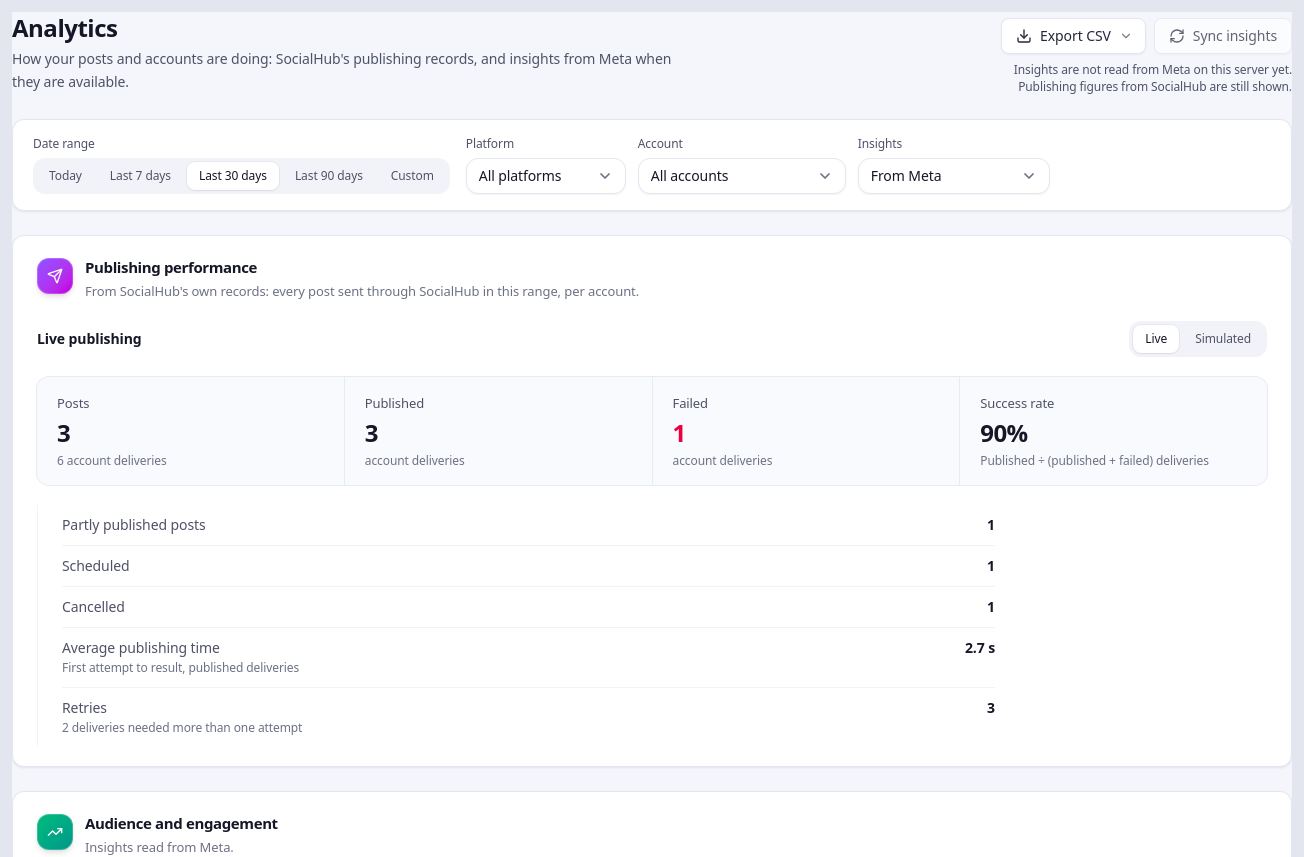
Test: layout of the figures › shows one publishing mode at a time, live first, and never adds them up
Expected: the heading "Live publishing" is shown, [37, 328, 142, 348]
Expected: the text "90%" is shown, [980, 416, 1028, 448]
Click the button "Simulated". click: coordinates (1223, 338)
box: [1183, 324, 1263, 352]
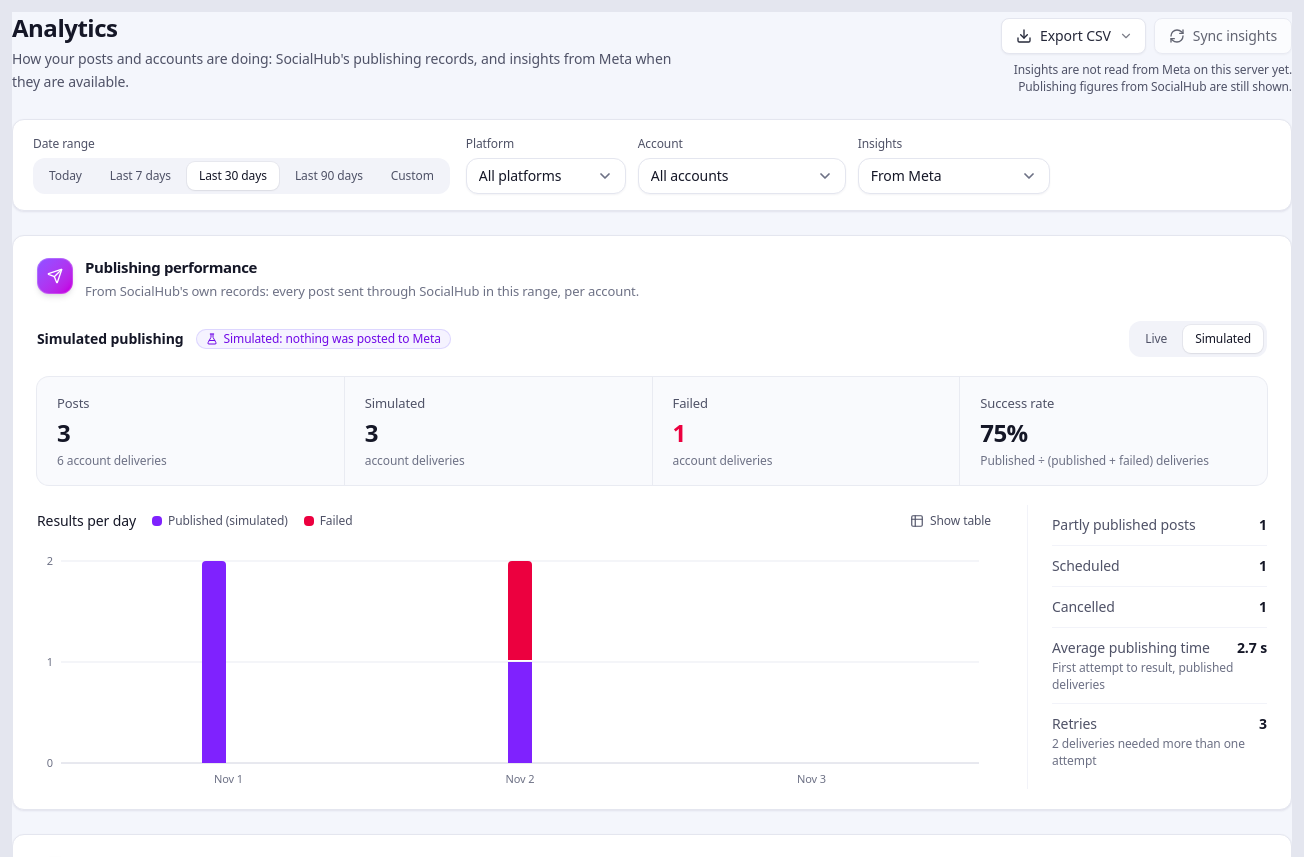
Expected: the heading "Simulated publishing" is shown, [37, 328, 184, 348]
Expected: the text "75%" is shown, [980, 416, 1028, 448]
Expected: the text "90%" is gone
